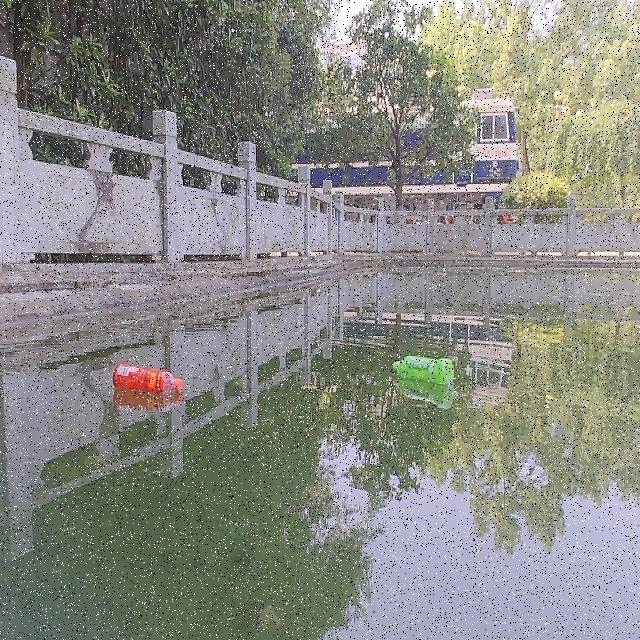bottle: (111, 362, 182, 394), (389, 353, 457, 383)
